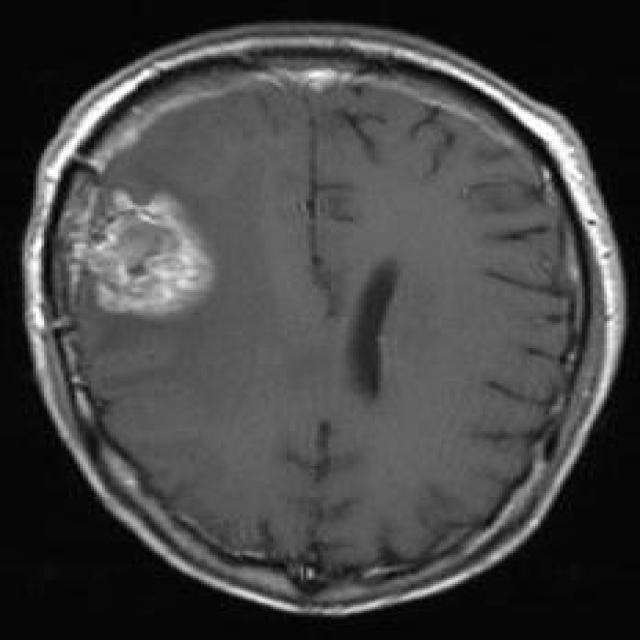brain tumor: (63, 188, 212, 321)
